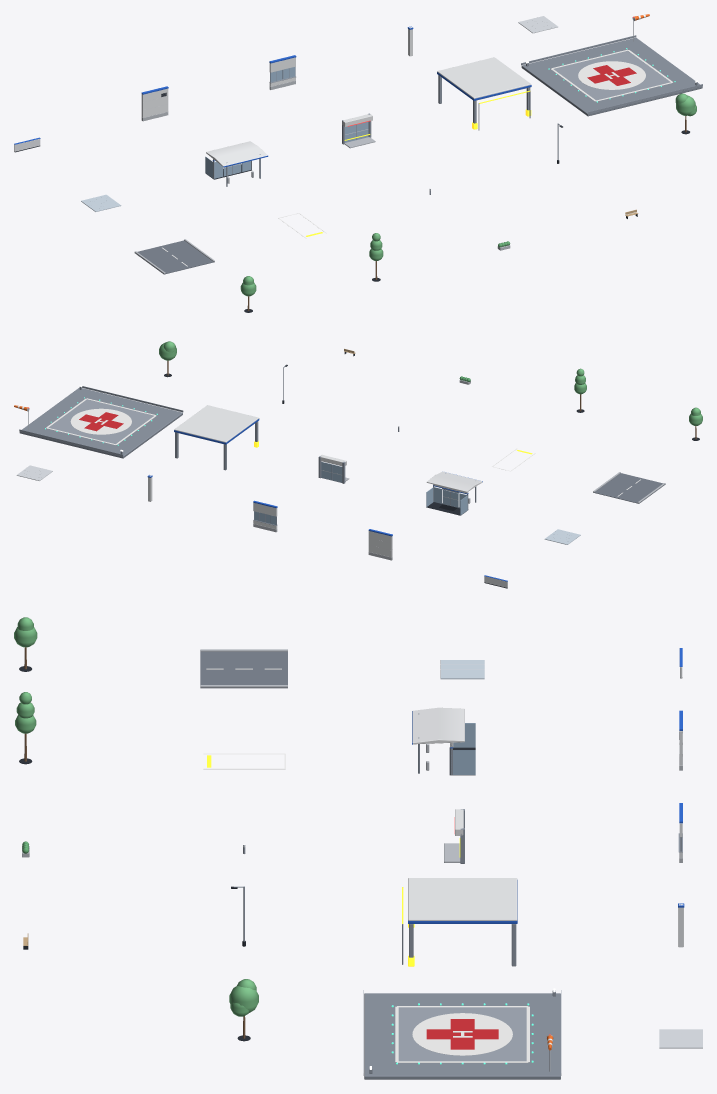
File: building.glb
3 views of the same model, one above another, from view 1: azimuth 30°, elevation 25°; view 2: azimuth 150°, elevation 25°; view 3: azimuth 270°, elevation 25° (orthographic). The views are drawn at different scales.
Parts seen in each view (by area): view 1: helipad_body, ambulance_canopy_body, road_tile_body, entrance_walkin_body, wall_full_body, wall_window_body, entrance_ambulance_body; view 2: helipad_body, ambulance_canopy_body, entrance_walkin_body, road_tile_body, wall_full_body, wall_window_body; view 3: helipad_body, ambulance_canopy_body, road_tile_body, entrance_walkin_body, tree_a_body, floor_tile_alt_body, floor_tile_body, tree_c_body, entrance_ambulance_body.
Boxes of the visible parts, bbox=[...] form: helipad_body: bbox=[521, 16, 702, 116]; ambulance_canopy_body: bbox=[437, 57, 531, 130]; road_tile_body: bbox=[134, 239, 214, 274]; entrance_walkin_body: bbox=[205, 141, 268, 186]; wall_full_body: bbox=[141, 86, 168, 121]; wall_window_body: bbox=[269, 55, 296, 89]; entrance_ambulance_body: bbox=[342, 113, 375, 148]; helipad_body: bbox=[19, 385, 183, 458]; ambulance_canopy_body: bbox=[174, 405, 259, 470]; entrance_walkin_body: bbox=[426, 471, 482, 515]; road_tile_body: bbox=[593, 472, 665, 503]; wall_full_body: bbox=[368, 529, 392, 560]; wall_window_body: bbox=[253, 500, 277, 532]; helipad_body: bbox=[363, 988, 561, 1079]; ambulance_canopy_body: bbox=[402, 878, 517, 966]; road_tile_body: bbox=[200, 649, 287, 688]; entrance_walkin_body: bbox=[412, 707, 475, 775]; tree_a_body: bbox=[229, 979, 258, 1041]; floor_tile_alt_body: bbox=[440, 660, 484, 679]; floor_tile_body: bbox=[659, 1029, 702, 1048]; tree_c_body: bbox=[15, 692, 36, 764]; entrance_ambulance_body: bbox=[444, 809, 464, 863].
Size of the model in its own units: 94.45 by 7.07 by 63.07.
